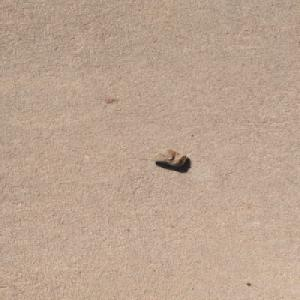Rock: (148, 148, 187, 166)
